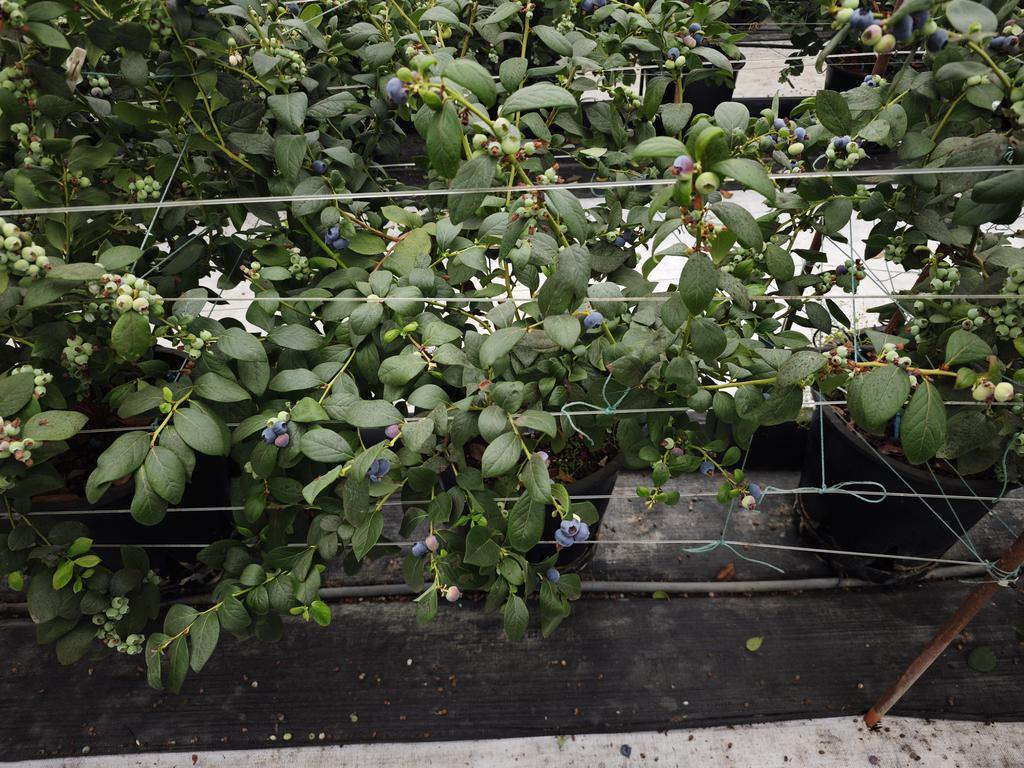RipeBlueBerry: (493, 114, 517, 137), (559, 517, 583, 536), (388, 76, 409, 94), (587, 313, 606, 329), (268, 421, 293, 433)
UnripeBlueBerry: (116, 296, 137, 312)
